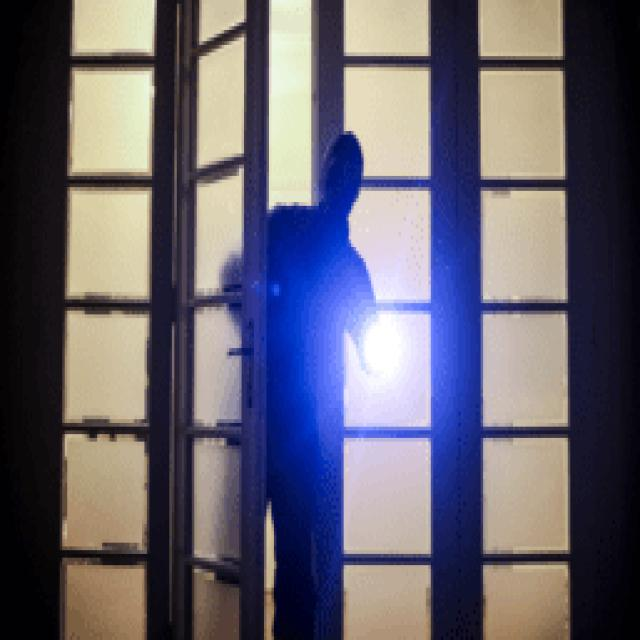intrusion detected: (263, 130, 398, 640)
